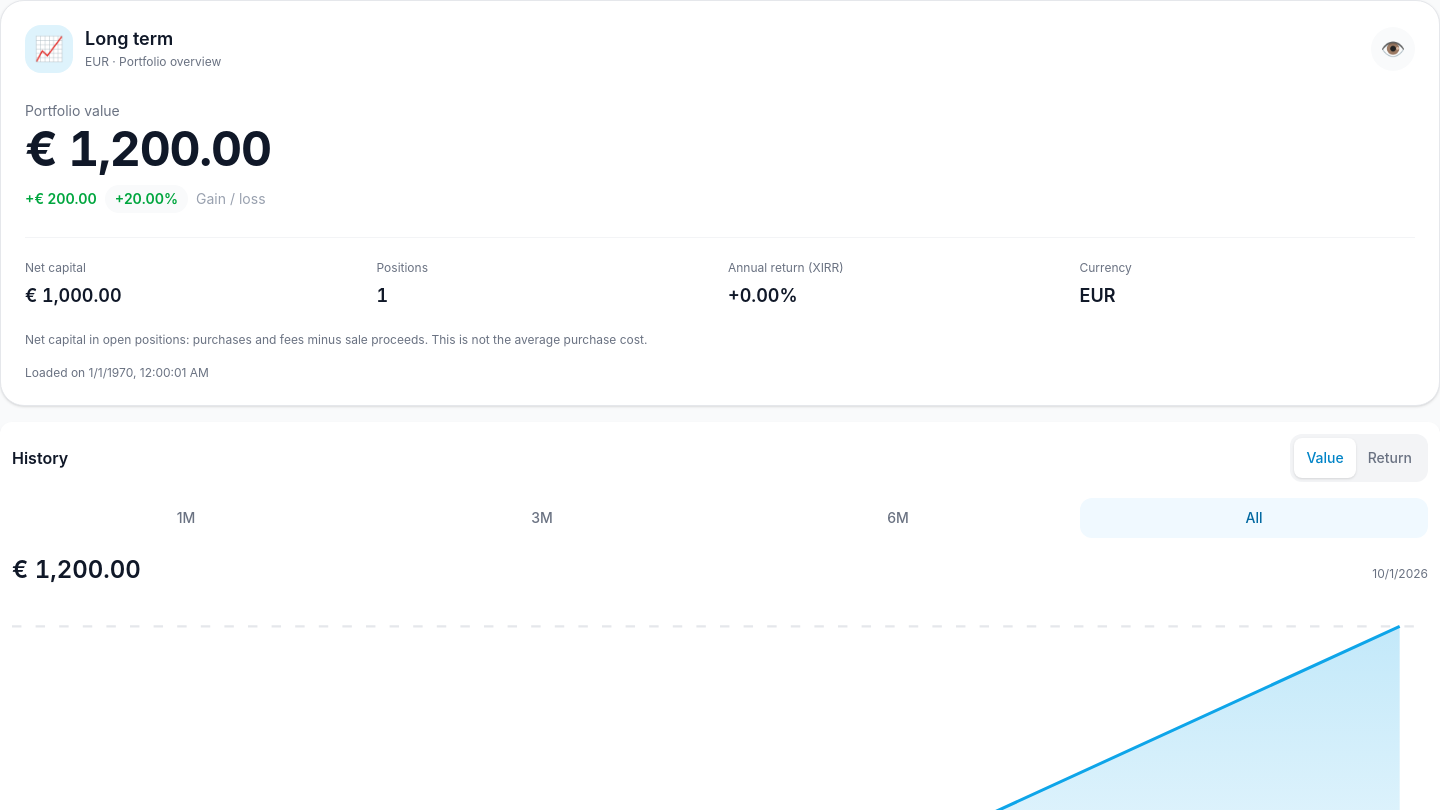
Test: portfolio overview › shows an annual zero return, named expandable positions and value/return charts
The image size is (1440, 810).
Expected: the text "+0.00%" is shown, [728,284,798,306]
Click the button "Return" at [1390, 458], box [1356,438,1424,478]
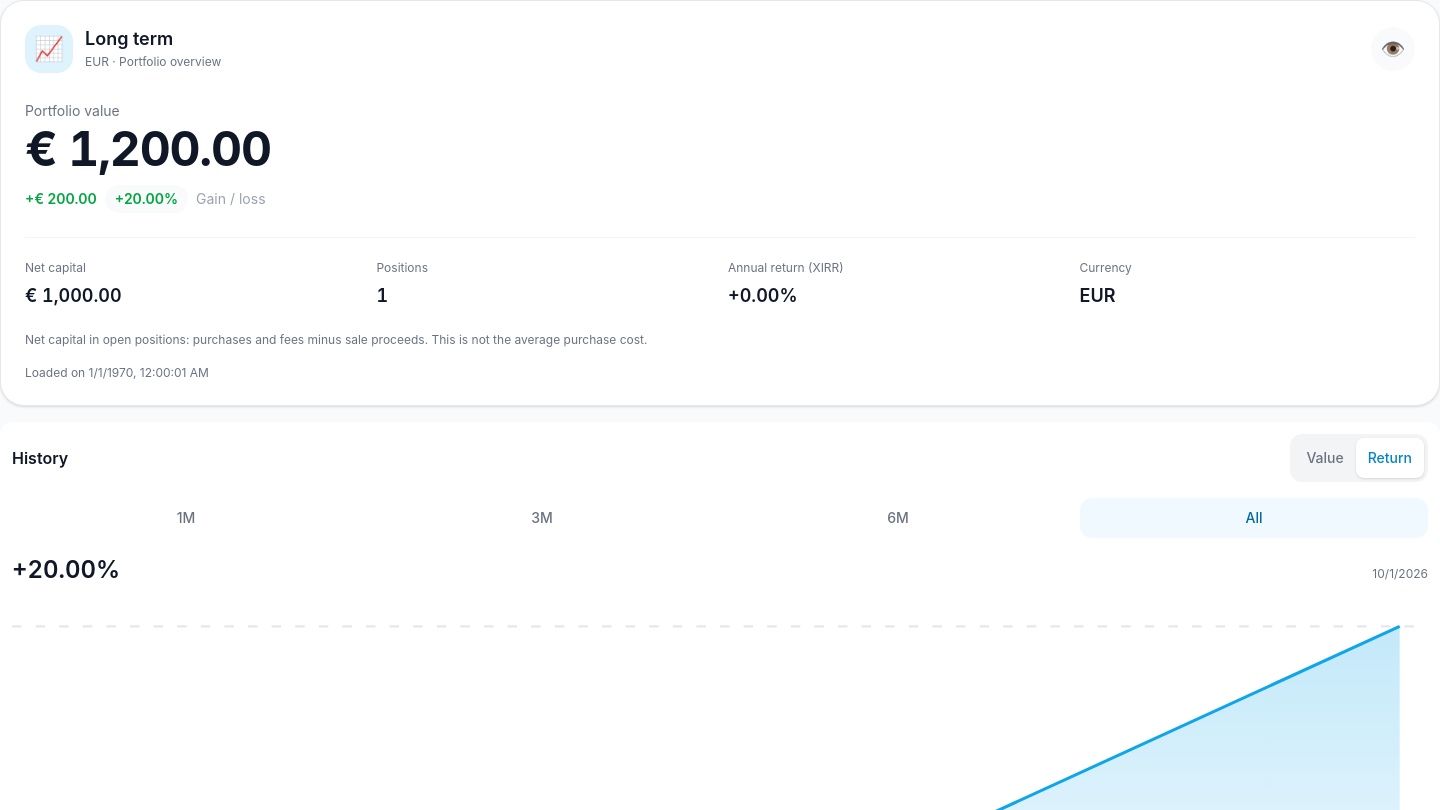
Click the button "1M" at [186, 518], box [12,498,360,538]
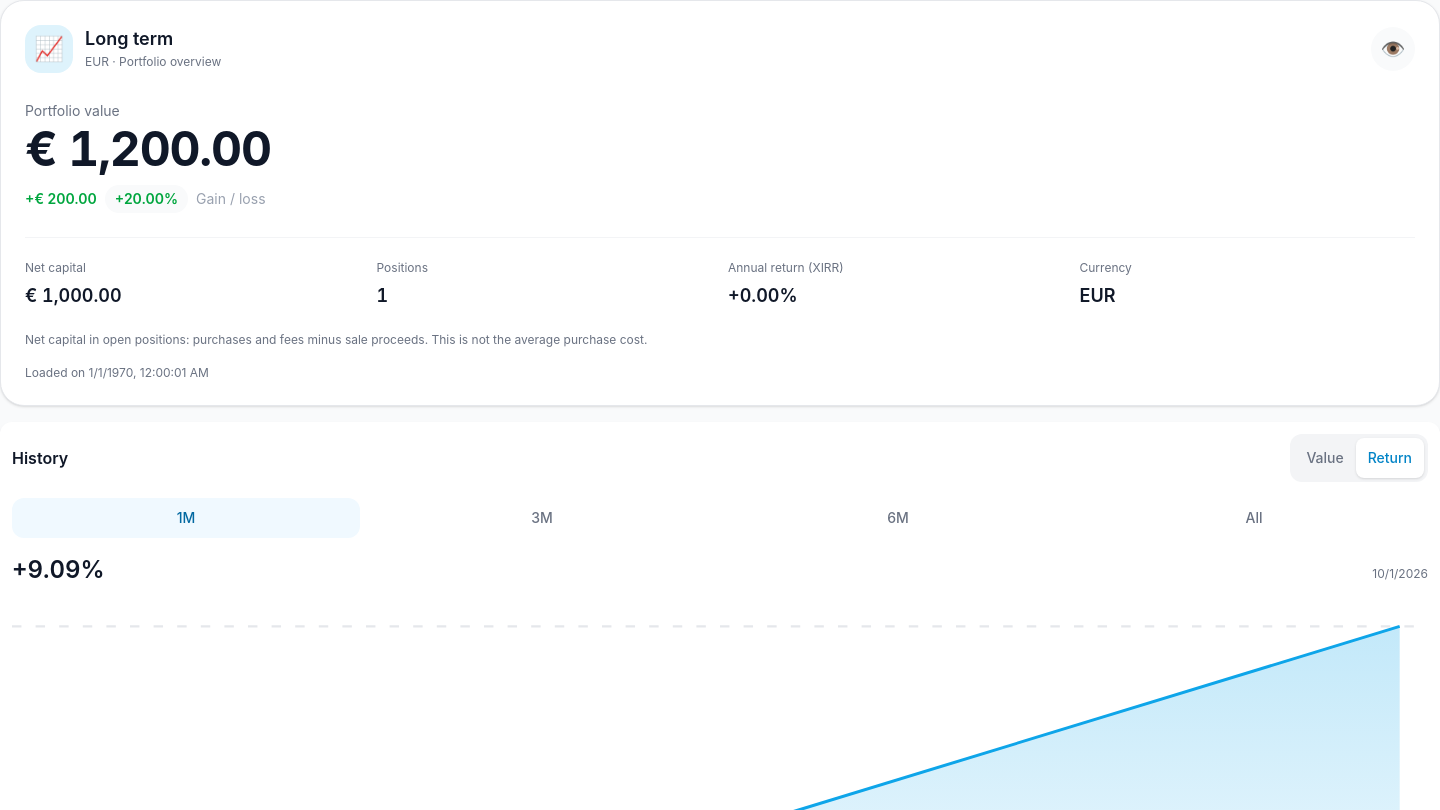
Expected: the text "+9.09%" is shown, [12,554,105,586]
